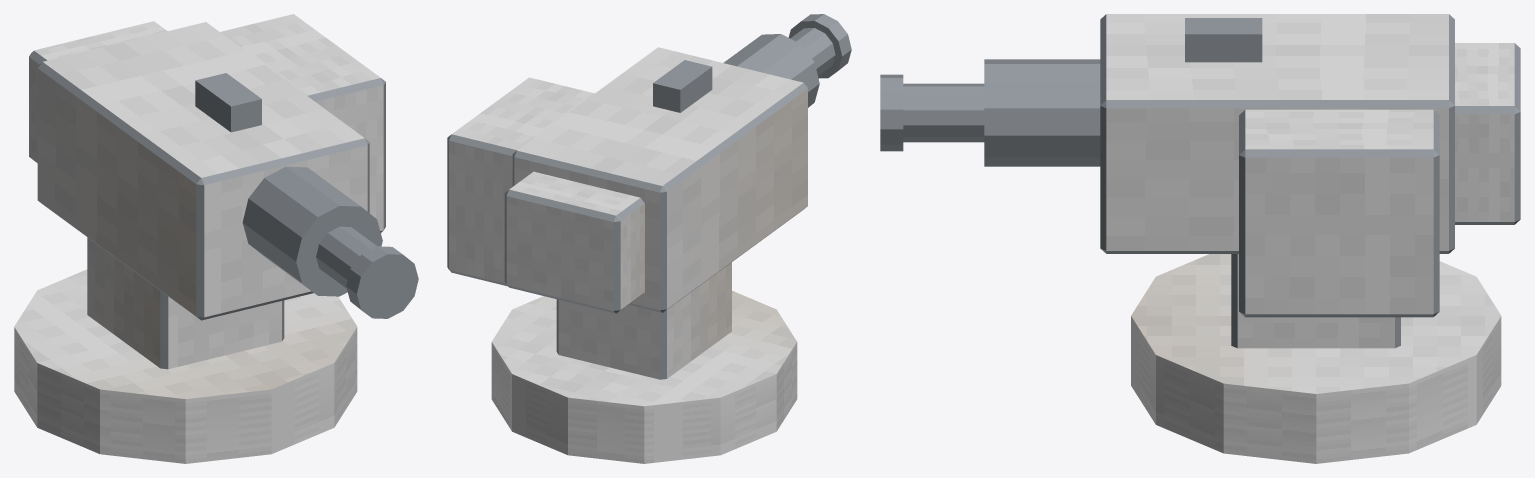
The picture shows the model from 3 angles, left to right: view 1: azimuth 30°, elevation 25°; view 2: azimuth 150°, elevation 25°; view 3: azimuth 270°, elevation 25°; orthographic projection. The views are drawn at different scales.
Parts seen in each view (by area): view 1: machine-gun; view 2: machine-gun; view 3: machine-gun.
Part boxes in pixels (bbox=[...]): machine-gun: bbox=[14, 14, 418, 463]; machine-gun: bbox=[447, 14, 851, 463]; machine-gun: bbox=[880, 14, 1520, 463].
Size of the model in its own units: 0.255 by 0.257 by 0.415.
2 materials, 1 textured.
